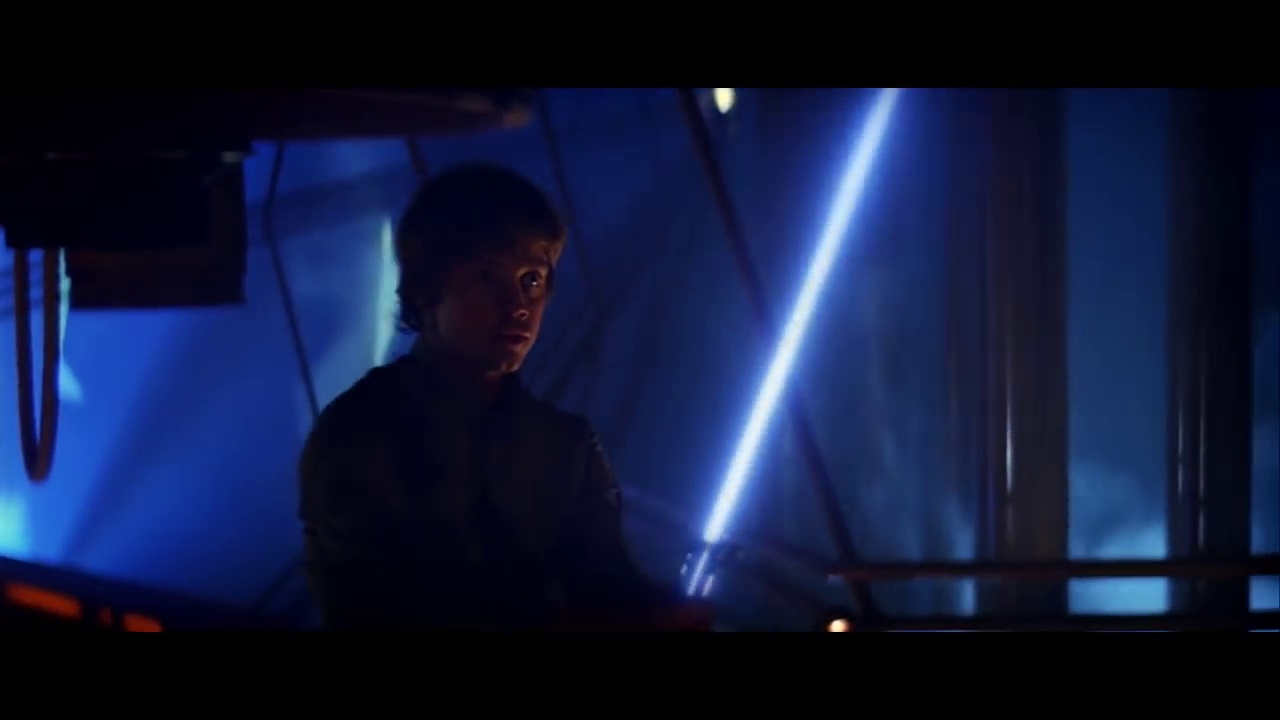lightsaber: (658, 89, 934, 595)
